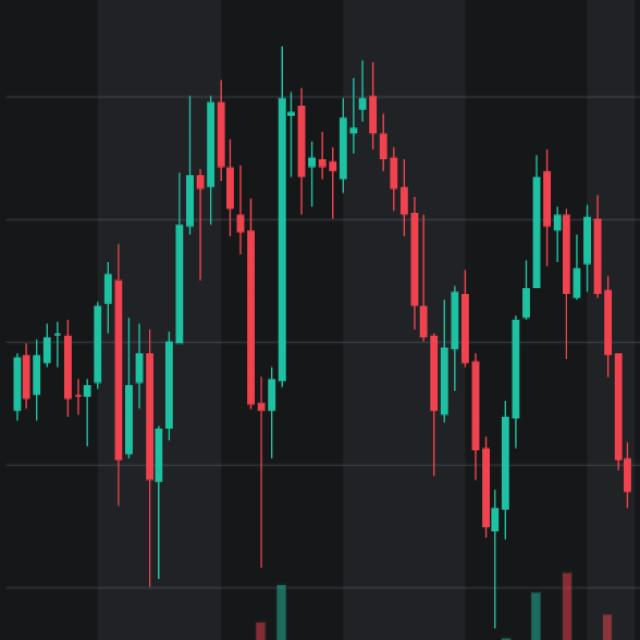Resistance-Emerging: (155, 58, 635, 554)
